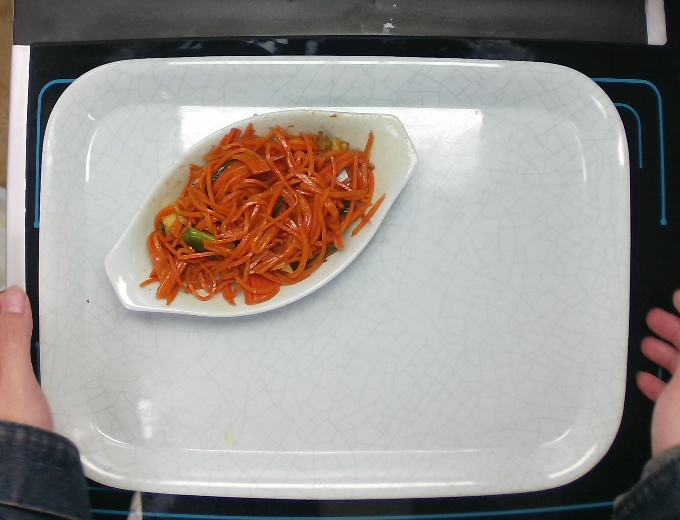JYsf-Yu_Pan: (102, 108, 424, 318)
